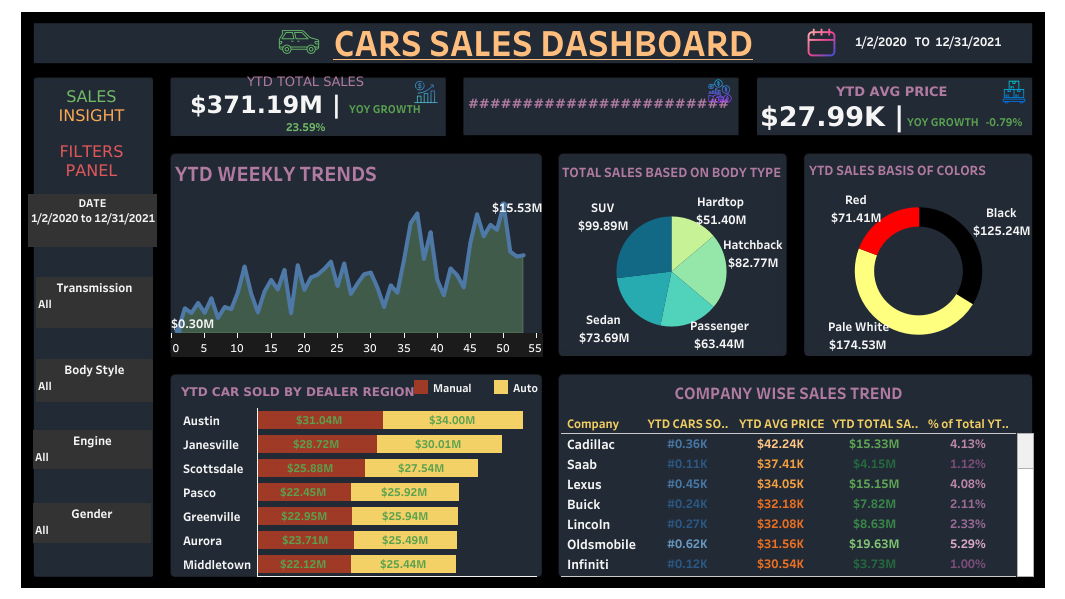

The dashboard page shown, as its layout file describes it:
{"tool":"tableau","page":{"name":"Dashboard 1","canvas":[1066,600],"ordinal":0},"visuals":[{"type":"image","param":"Image/Car Sales Background.jpg","box":[8,8,1050,584]},{"type":"image","param":"Image/Car Icon.png","box":[257,18,84,48]},{"type":"text","box":[281,23,525,36]},{"type":"worksheet","title":"DATE RANGE","mark":"Automatic","box":[830,23,197,37]},{"type":"image","param":"Image/calendar.png","box":[804,27,36,31]},{"type":"worksheet","title":"YTD TOTAL SALES","mark":"Automatic","box":[169,73,274,61]},{"type":"worksheet","title":"YTD CAR SOLD","mark":"Automatic","box":[463,75,273,58]},{"type":"worksheet","title":"YTD AVG PRICE","mark":"Automatic","box":[755,78,274,60]},{"type":"image","param":"Image/Sales Icon.png","box":[413,79,30,26]},{"type":"image","param":"Image/Cars Sold Icon.png","box":[703,79,34,24]},{"type":"image","param":"Image/Avg Price Icon.png","box":[997,80,34,24]},{"type":"text","box":[34,86,115,39]},{"type":"text","box":[34,141,115,39]},{"type":"worksheet","title":"YTD WEEKLY TRENDS","mark":"Area","rows":["YTD TOTAL SALES (copy)_674977044105080833","YTD TOTAL SALES (copy)_674977044105080833"],"cols":["Date"],"box":[171,153,372,204]},{"type":"worksheet","title":"YTD SALES BY COLOR","mark":"Pie","rows":["Calculation_674977044212195339","Calculation_674977044212281357"],"box":[805,154,227,200]},{"type":"worksheet","title":"YTD TOTAL SALES BY BODY STYLE","mark":"Pie","box":[558,156,227,197]},{"type":"filter","title":"YTD WEEKLY TRENDS","param":"[federated.09xww8n12t81j41eiplsb0gkngul].[none:Date:qk]","box":[28,194,129,53]},{"type":"filter","title":"YTD WEEKLY TRENDS","param":"[federated.09xww8n12t81j41eiplsb0gkngul].[none:Transmission:nk]","box":[36,277,117,51]},{"type":"filter","title":"YTD WEEKLY TRENDS","param":"[federated.09xww8n12t81j41eiplsb0gkngul].[none:Body Style:nk]","box":[36,359,117,43]},{"type":"worksheet","title":"COMPANY WISE SALES TREND","mark":"Automatic","rows":["Company"],"box":[561,375,473,202]},{"type":"legend","title":"YTD CARS SOLD BY DEALER REGION","param":"[federated.09xww8n12t81j41eiplsb0gkngul].[none:Transmission:nk]","box":[411,377,173,27]},{"type":"worksheet","title":"YTD CARS SOLD BY DEALER REGION","mark":"Automatic","rows":["Dealer_Region"],"cols":["Calculation_674977044116189188"],"box":[177,378,359,198]},{"type":"filter","title":"YTD WEEKLY TRENDS","param":"[federated.09xww8n12t81j41eiplsb0gkngul].[none:Engine:nk]","box":[33,430,119,39]},{"type":"filter","title":"YTD WEEKLY TRENDS","param":"[federated.09xww8n12t81j41eiplsb0gkngul].[none:Gender:nk]","box":[33,503,118,40]}]}

Visuals, with their boxes in screenshot pixels (x1, y1, x2, y2), scaled from the page's 1066x600 canvas onto the 1065x599 screenshot:
image: l=8, t=8, r=1057, b=591
image: l=257, t=18, r=341, b=66
text: l=281, t=23, r=805, b=59
"DATE RANGE" worksheet: l=829, t=23, r=1026, b=60
image: l=803, t=27, r=839, b=58
"YTD TOTAL SALES" worksheet: l=169, t=73, r=443, b=134
"YTD CAR SOLD" worksheet: l=463, t=75, r=735, b=133
"YTD AVG PRICE" worksheet: l=754, t=78, r=1028, b=138
image: l=413, t=79, r=443, b=105
image: l=702, t=79, r=736, b=103
image: l=996, t=80, r=1030, b=104
text: l=34, t=86, r=149, b=125
text: l=34, t=141, r=149, b=180
"YTD WEEKLY TRENDS" worksheet (Area marks): l=171, t=153, r=542, b=356
"YTD SALES BY COLOR" worksheet (Pie marks): l=804, t=154, r=1031, b=353
"YTD TOTAL SALES BY BODY STYLE" worksheet (Pie marks): l=557, t=156, r=784, b=352
"YTD WEEKLY TRENDS" filter: l=28, t=194, r=157, b=247
"YTD WEEKLY TRENDS" filter: l=36, t=277, r=153, b=327
"YTD WEEKLY TRENDS" filter: l=36, t=358, r=153, b=401
"COMPANY WISE SALES TREND" worksheet: l=560, t=374, r=1033, b=576
"YTD CARS SOLD BY DEALER REGION" legend: l=411, t=376, r=583, b=403
"YTD CARS SOLD BY DEALER REGION" worksheet: l=177, t=377, r=535, b=575
"YTD WEEKLY TRENDS" filter: l=33, t=429, r=152, b=468
"YTD WEEKLY TRENDS" filter: l=33, t=502, r=151, b=542
